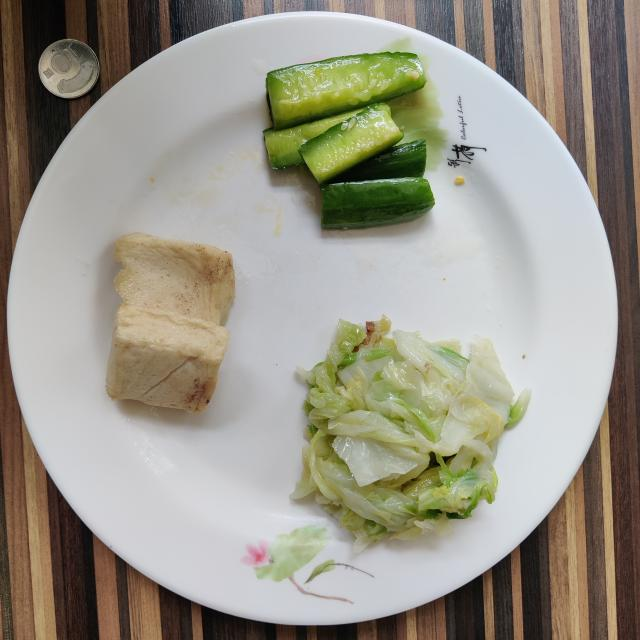cabbage: (291, 316, 530, 551)
coin: (39, 39, 100, 99)
creamy tofu -without sauce-: (106, 232, 235, 412)
cucumber: (264, 52, 435, 229)
